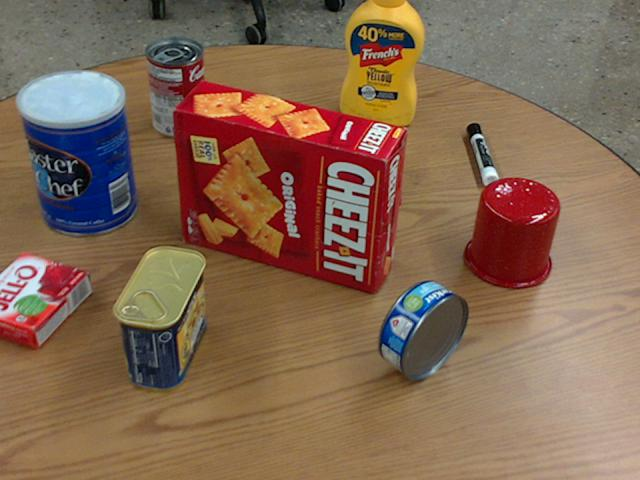cracker_box: (173, 81, 406, 293)
gelatin_box: (0, 252, 88, 346)
large_marker: (468, 123, 499, 187)
master_chef_can: (17, 71, 135, 236)
mug: (464, 176, 559, 287)
mustard_bottle: (342, 0, 425, 125)
potted_meat_can: (110, 244, 203, 389)
sugar_box: (240, 99, 406, 199)
tomato_soup_can: (146, 37, 206, 137)
tuna_fish_can: (379, 280, 468, 379)
